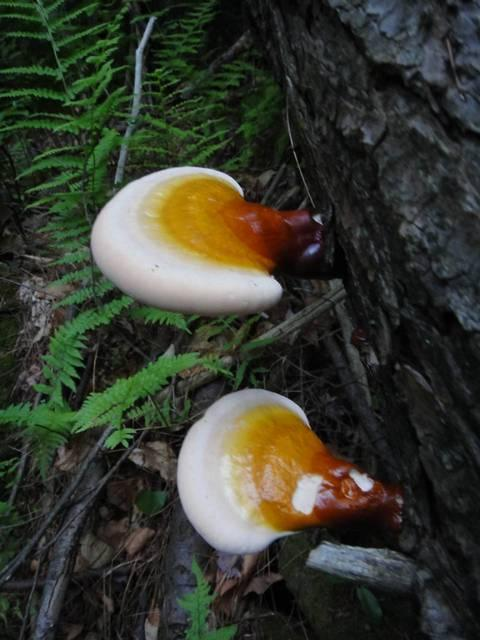poisonous_mushroom: (174, 386, 404, 556), (87, 163, 335, 317)
